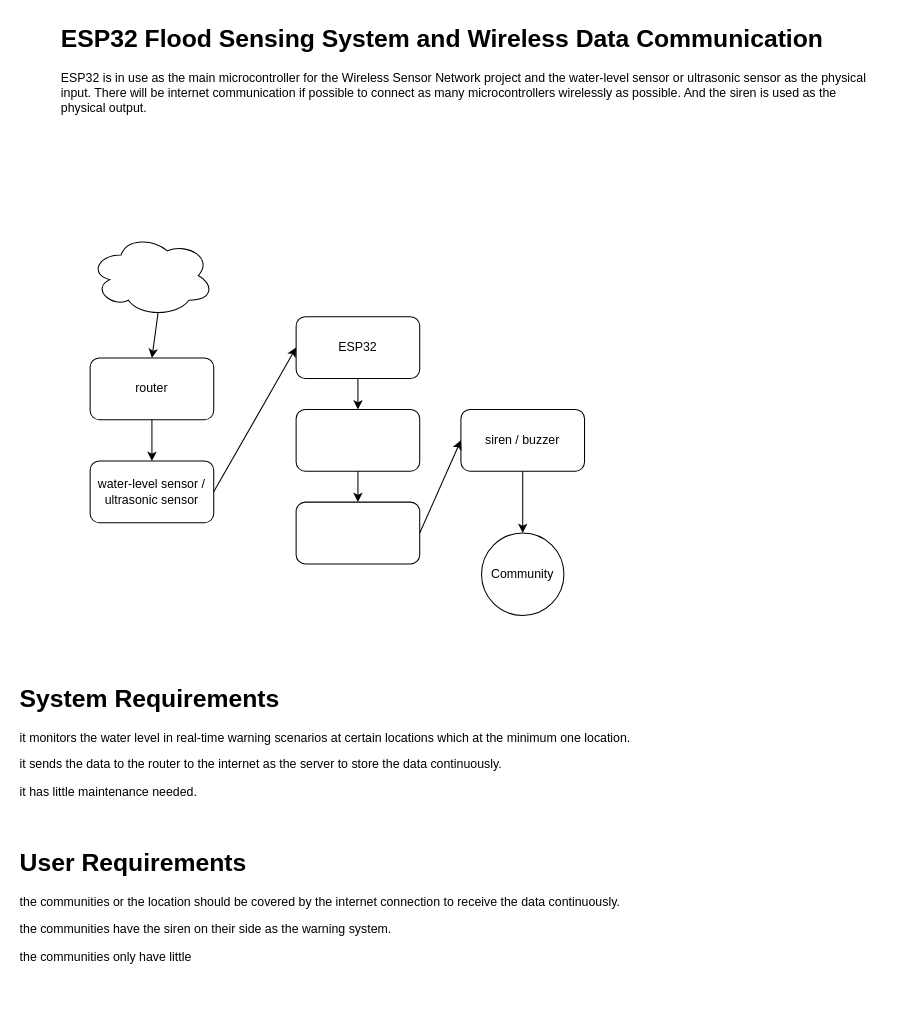
Image size: 900x1027. Some labels were removed from this diagram. The centre of each missing label's shape, as x and y in pixels:
"Arduino IDE" belongs at point (357, 532).
"internet" belongs at point (151, 275).
"laptop" belongs at point (357, 439).
